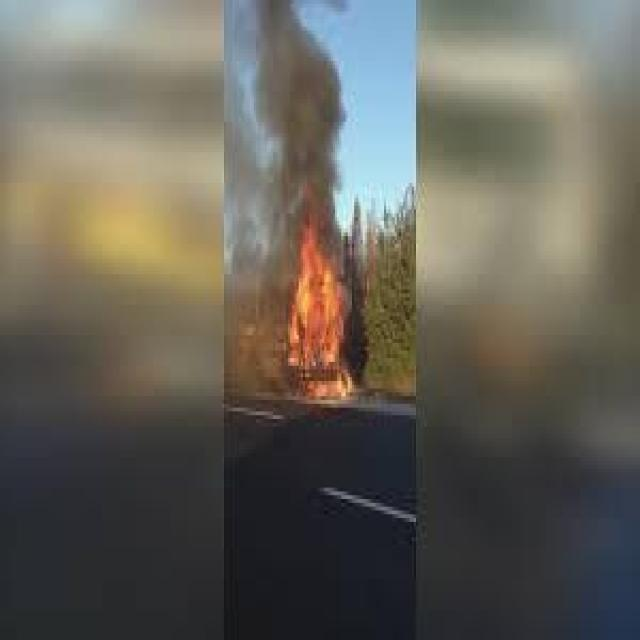fire: (276, 207, 351, 394)
smoke: (249, 1, 348, 192)
